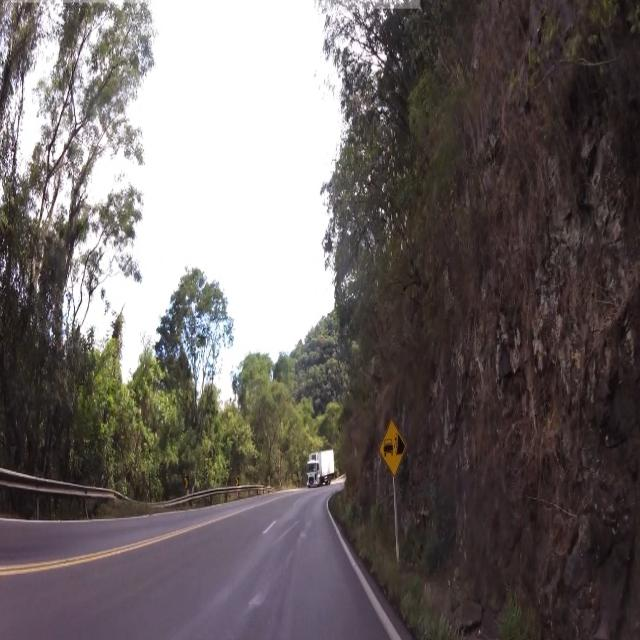A-27: (375, 414, 415, 486)
